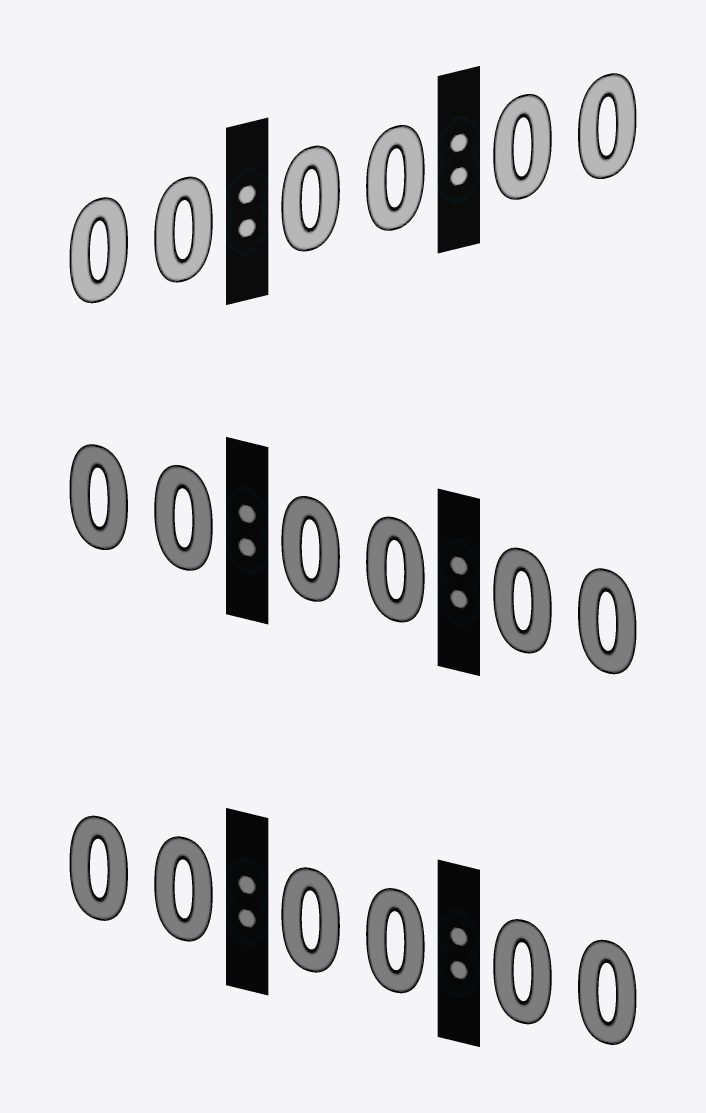
Rendered from timer.FBX.
3 views of the same model, one above another, from view 1: azimuth 30°, elevation 25°; view 2: azimuth 150°, elevation 25°; view 3: azimuth 330°, elevation 25° (orthographic).
Parts seen in each view (by area): view 1: Base, Digit5, Digit1, Digit4, Digit6, Digit2, Digit3; view 2: Base, Digit5, Digit1, Digit4, Digit6, Digit2, Digit3; view 3: Base, Digit4, Digit2, Digit5, Digit3, Digit6, Digit1.
Part boxes in pixels (x1,y1,x2,y2): Base: (226, 66, 479, 304); Digit5: (154, 176, 212, 282); Digit1: (578, 73, 636, 178); Digit4: (281, 145, 339, 251); Digit6: (69, 197, 127, 303); Digit2: (493, 94, 551, 199); Digit3: (366, 125, 424, 230); Base: (226, 437, 479, 675); Digit5: (493, 547, 551, 653); Digit1: (69, 444, 127, 549); Digit4: (366, 516, 424, 622); Digit6: (578, 568, 636, 674); Digit2: (154, 465, 212, 570); Digit3: (281, 496, 339, 601); Base: (226, 808, 479, 1046); Digit4: (281, 867, 339, 972); Digit2: (493, 919, 551, 1024); Digit5: (154, 836, 212, 941); Digit3: (366, 888, 424, 993); Digit6: (69, 815, 127, 920); Digit1: (578, 939, 636, 1044).
Bounding box in the file's own units: 80 × 20 × 3.26e-06.
